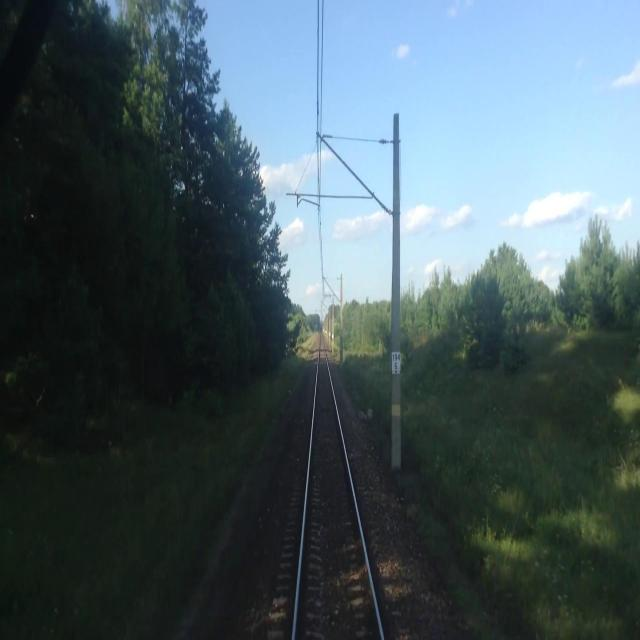rail-track: (296, 342, 380, 639)
